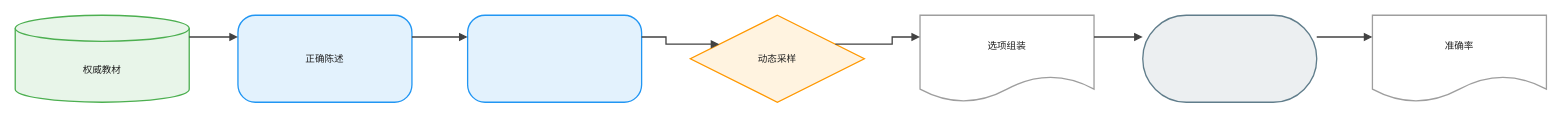
This 1563x118 diagram has some shape labels left out. The box of each missing label's shape, as (x1, y1, x2, y2) in pixels:
答案抽取: (1142, 14, 1317, 102)
错误陈述: (467, 14, 642, 102)
